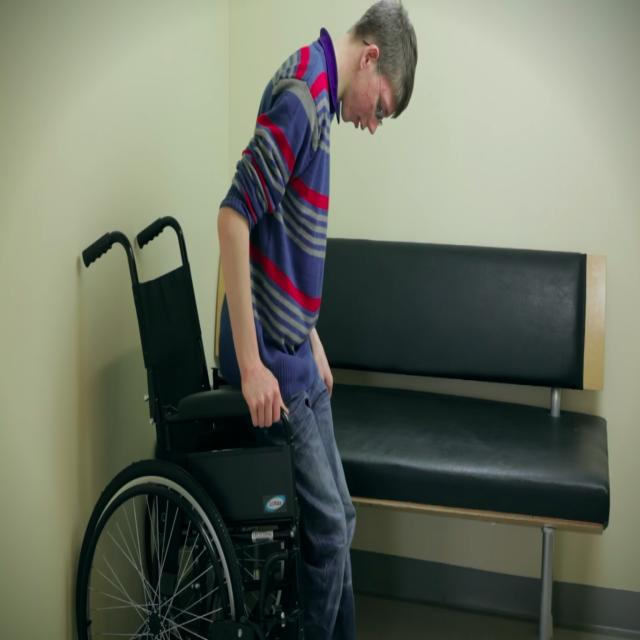wheelchairs: (76, 214, 305, 638)
